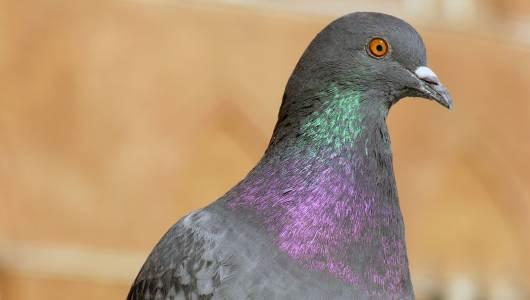Flying Rat: (121, 12, 452, 300)
